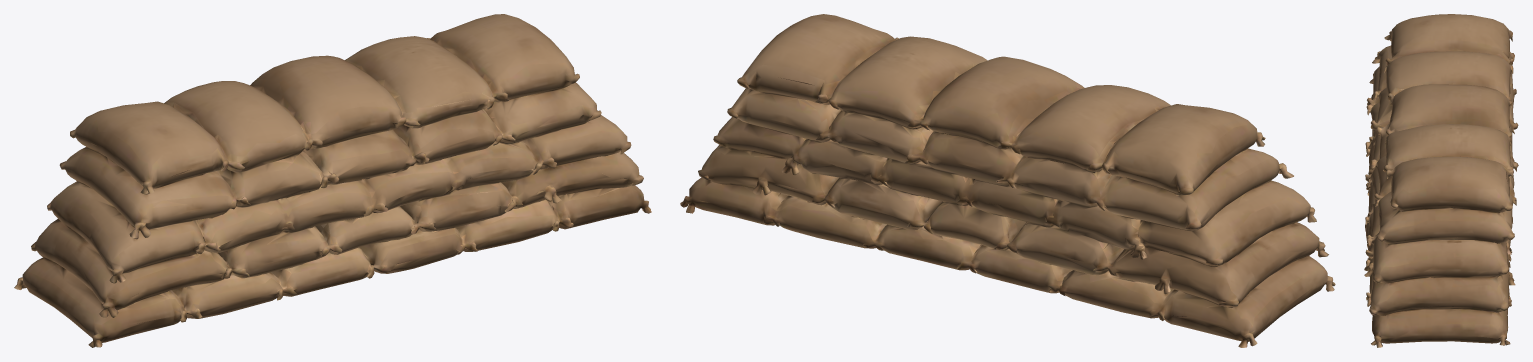
The model's file is SackStack.glb.
The picture shows the model from 3 angles, left to right: view 1: azimuth 30°, elevation 25°; view 2: azimuth 150°, elevation 25°; view 3: azimuth 270°, elevation 25°; orthographic projection. The views are drawn at different scales.
Visible parts, largest first — view 1: SackStack; view 2: SackStack; view 3: SackStack.
Part boxes in pixels (x1,y1,x2,y2): SackStack: [14, 14, 651, 347]; SackStack: [680, 14, 1335, 347]; SackStack: [1364, 14, 1518, 347].
Size of the model in its own units: 2.79 by 0.8408 by 0.8112.
Materials: 1 (1 with a texture image).
